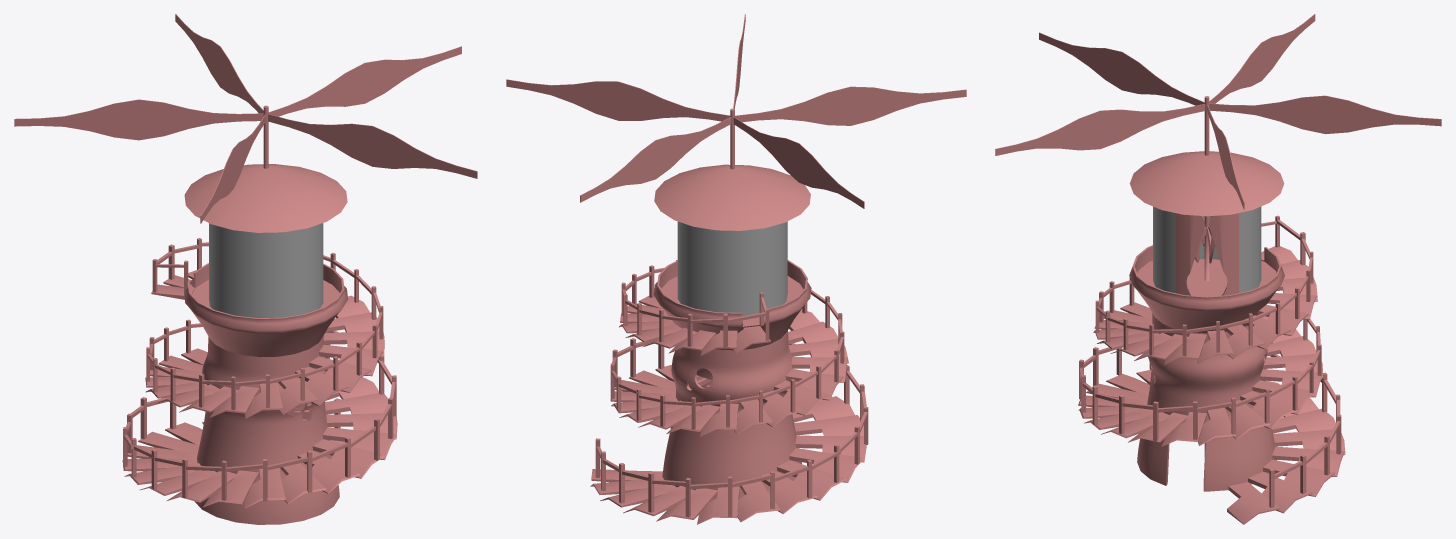
The model's file is windmill.fbx.
3 renders of one model, left to right at view 1: azimuth 30°, elevation 25°; view 2: azimuth 150°, elevation 25°; view 3: azimuth 270°, elevation 25°, orthographic. The views are drawn at different scales.
Parts seen in each view (by area): view 1: windmill_base, windmill_top, windmill_railing; view 2: windmill_base, windmill_top, windmill_railing; view 3: windmill_base, windmill_top, windmill_railing.
Boxes of the visible parts, <box> form: windmill_base: <box>122,164,397,524</box>; windmill_top: <box>14,14,477,420</box>; windmill_railing: <box>123,238,396,500</box>; windmill_base: <box>590,164,866,524</box>; windmill_top: <box>506,14,966,389</box>; windmill_railing: <box>595,260,868,517</box>; windmill_base: <box>1078,151,1345,524</box>; windmill_top: <box>995,14,1441,456</box>; windmill_railing: <box>1079,215,1341,507</box>.
Bounding box in the file's own units: 94.91 × 89.72 × 94.91.
